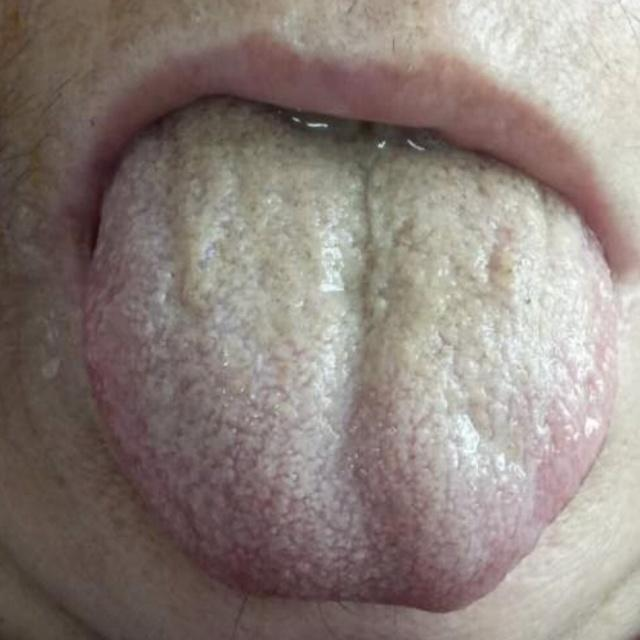huangtaishe: (81, 97, 621, 615)
